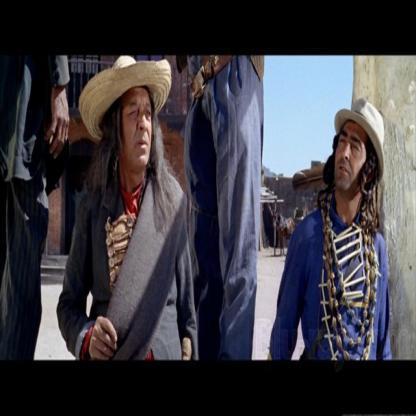face: (337, 121, 366, 192), (126, 91, 153, 163)
